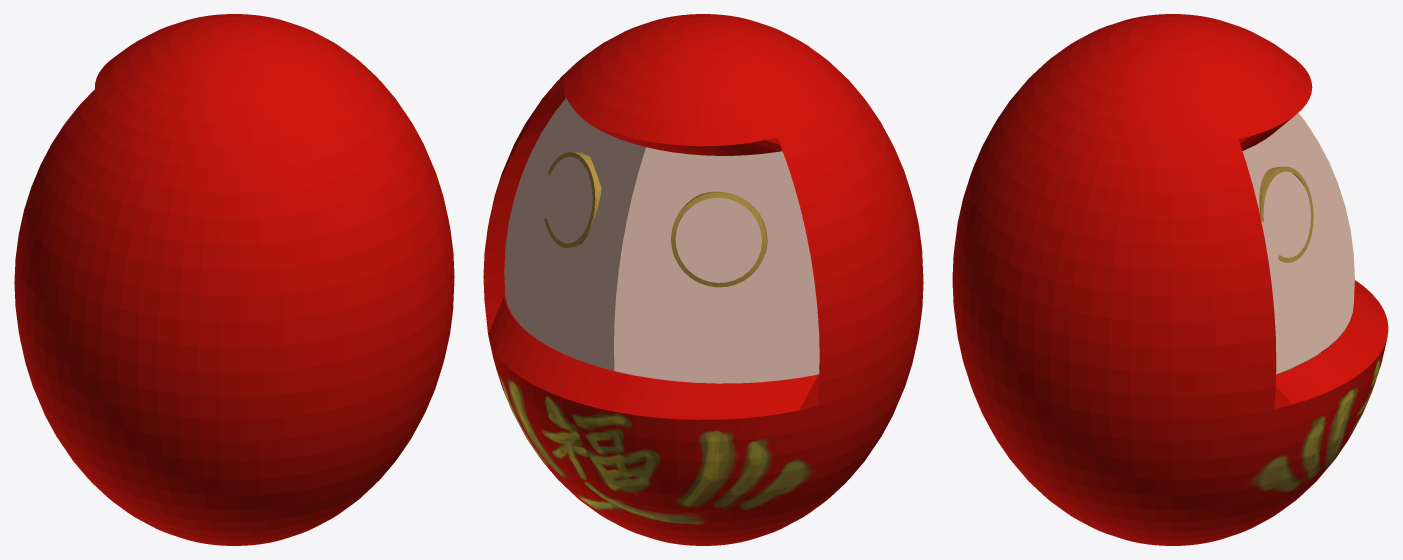
Rendered from Daruma 1.fbx.
3 renders of one model, left to right at view 1: azimuth 30°, elevation 25°; view 2: azimuth 150°, elevation 25°; view 3: azimuth 270°, elevation 25°, orthographic.
Parts seen in each view (by area): view 1: 球; view 2: 球, 球.001, 円柱.001, 円柱; view 3: 球, 球.001, 円柱.
Part boxes in pixels (x1,y1,x2,y2): 球: (14,14,454,545); 球: (483,14,923,545); 球.001: (504,98,819,383); 円柱.001: (671,191,767,287); 円柱: (544,152,601,248); 球: (952,14,1388,545); 球.001: (1242,113,1354,374); 円柱: (1259,166,1313,262).
Bounding box in the file's own units: 320 × 400 × 317.
